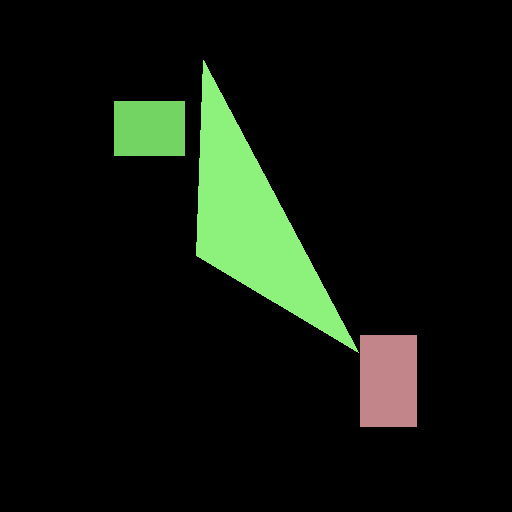rectangle: (360, 335, 416, 426), (114, 101, 184, 155)
triangle: (196, 60, 358, 352)
